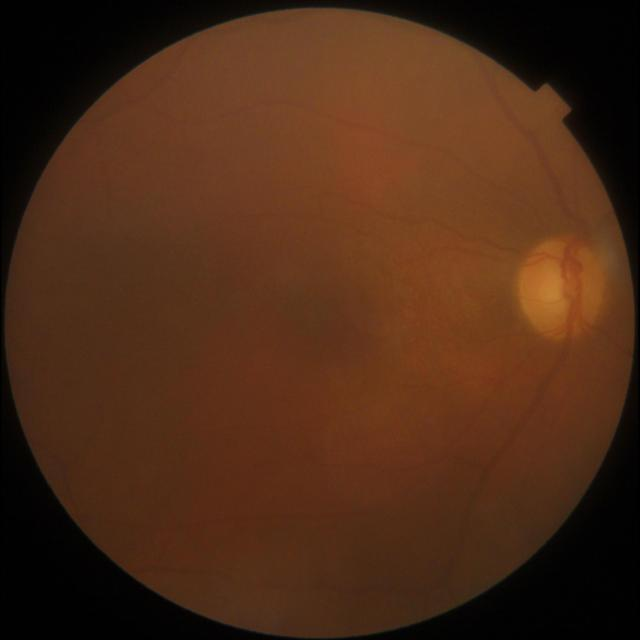OC: (537, 276, 573, 309)
OD: (518, 236, 606, 338)
